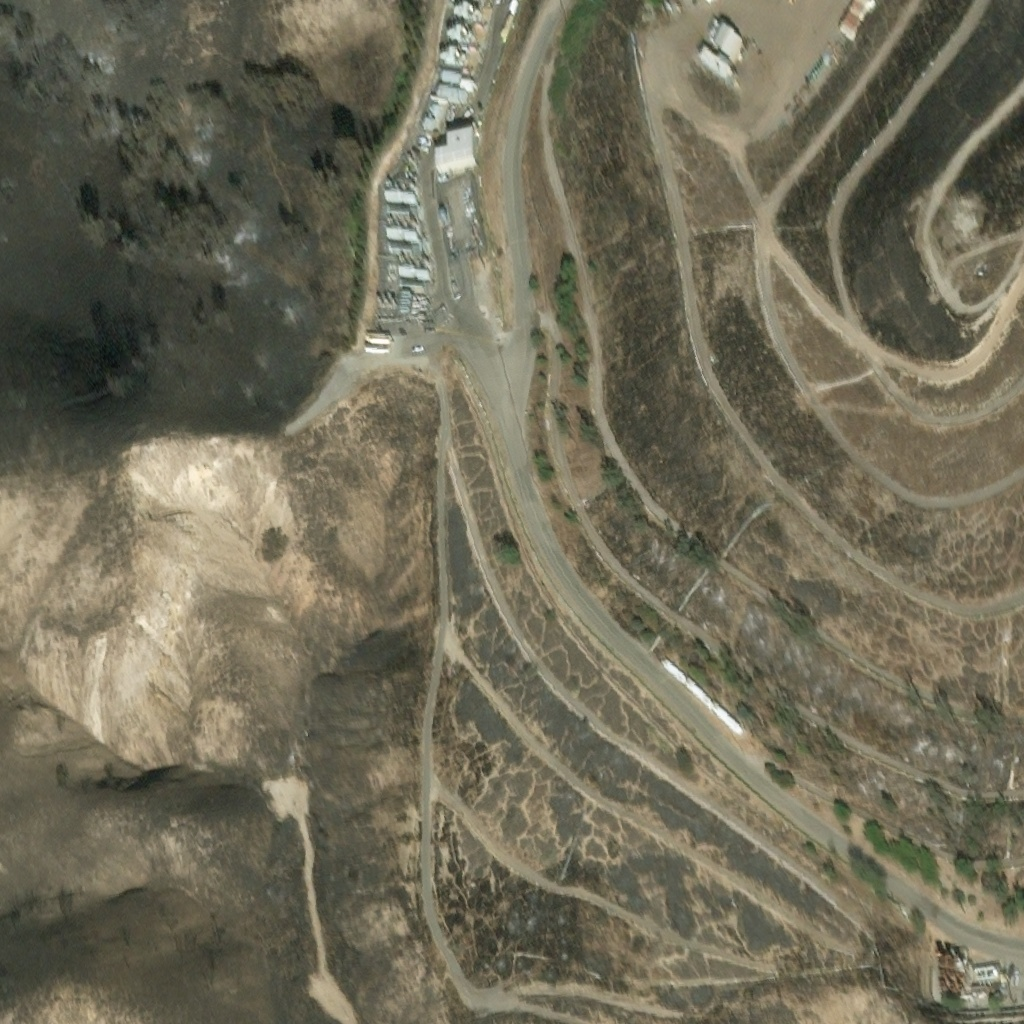0 no-damage: (859, 49, 893, 92), (434, 130, 474, 164), (931, 922, 959, 970), (721, 24, 759, 58), (963, 937, 1001, 964), (393, 276, 422, 309), (419, 88, 445, 124), (440, 22, 472, 51), (447, 0, 482, 25), (438, 46, 472, 71), (716, 97, 747, 123), (729, 77, 757, 105), (392, 246, 424, 269), (382, 214, 417, 235), (434, 78, 465, 97), (385, 191, 411, 211), (811, 18, 830, 44), (363, 326, 389, 343), (381, 177, 413, 188), (501, 22, 517, 44), (438, 64, 460, 79), (699, 48, 716, 65), (775, 0, 794, 14), (458, 74, 475, 88), (433, 198, 447, 211), (513, 0, 526, 13), (510, 10, 521, 25), (465, 121, 475, 131), (900, 0, 920, 4)
